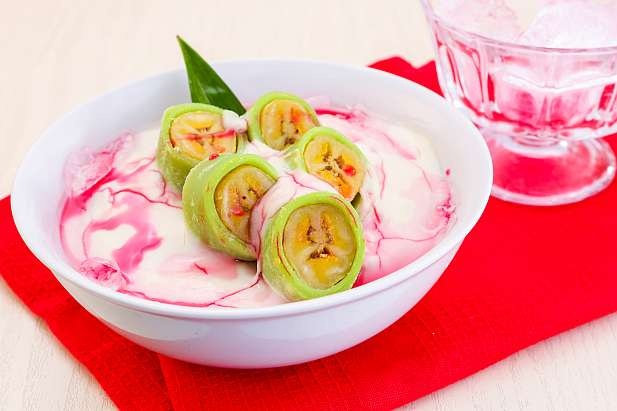pisang_ijo: (270, 198, 366, 298)
